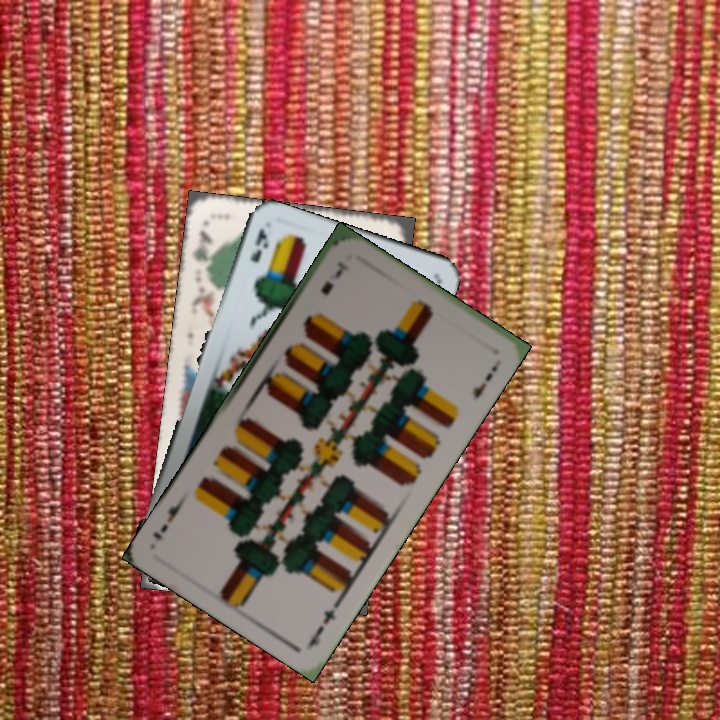E7: (304, 596, 343, 650), (316, 257, 351, 298)
EK: (246, 224, 270, 265)
GK: (188, 225, 215, 263)
